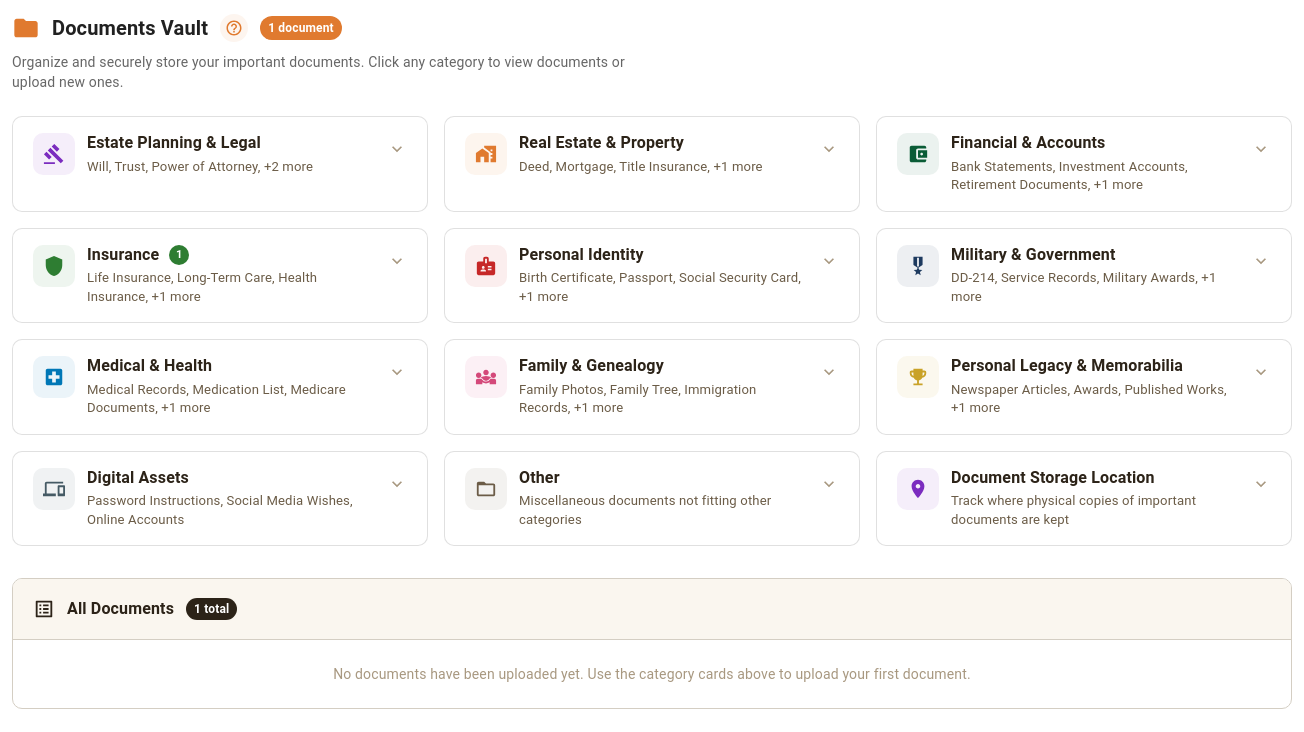
DocumentsVaultSection › Document List › expired document shows expiration warning chip
The image size is (1304, 732).
Step 1. Click the heading "Insurance" → coordinates (123, 255), box top-left (87, 245), bottom-right (159, 265)
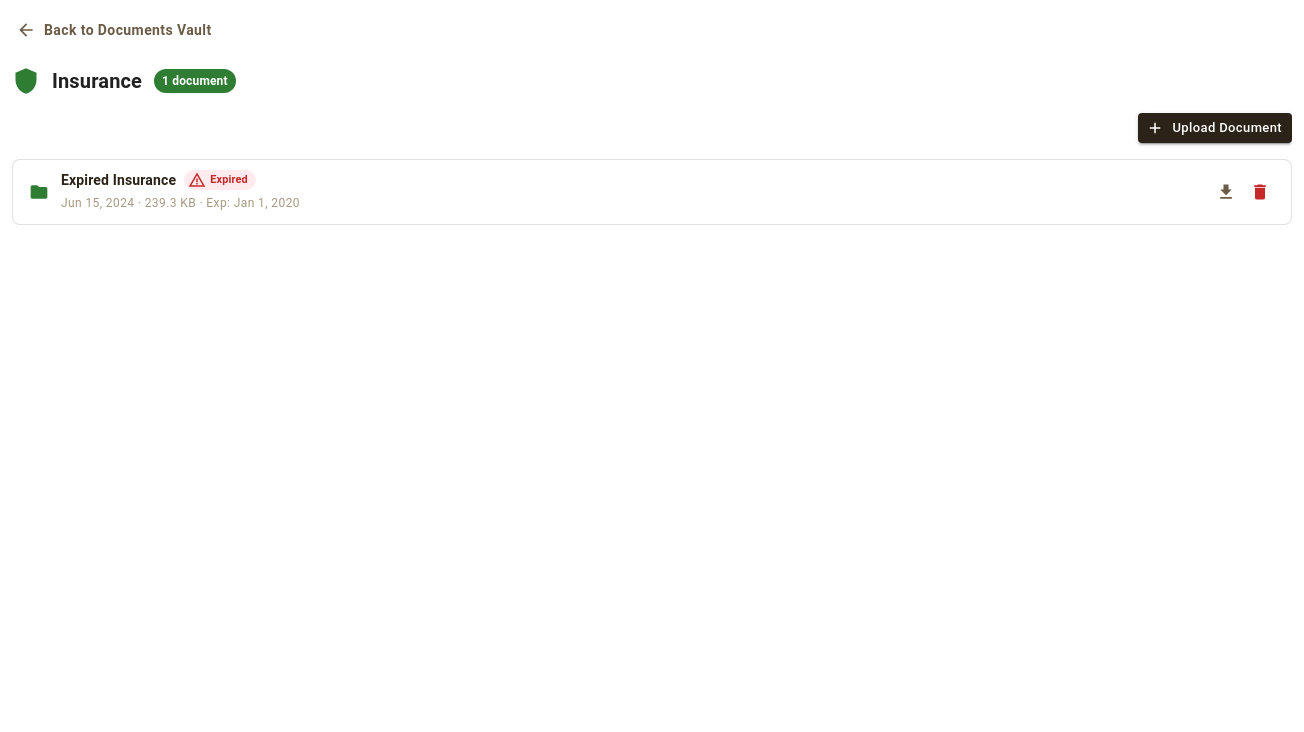
Expected: the text "Expired Insurance" is shown, top-left (61, 170), bottom-right (176, 190)
Expected: the text "Expired" is shown, top-left (210, 173), bottom-right (248, 186)
